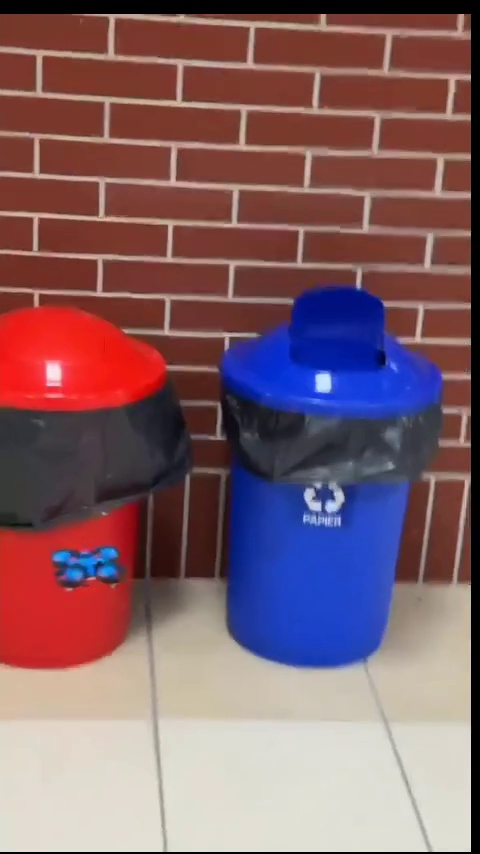drone: (48, 547, 121, 591)
